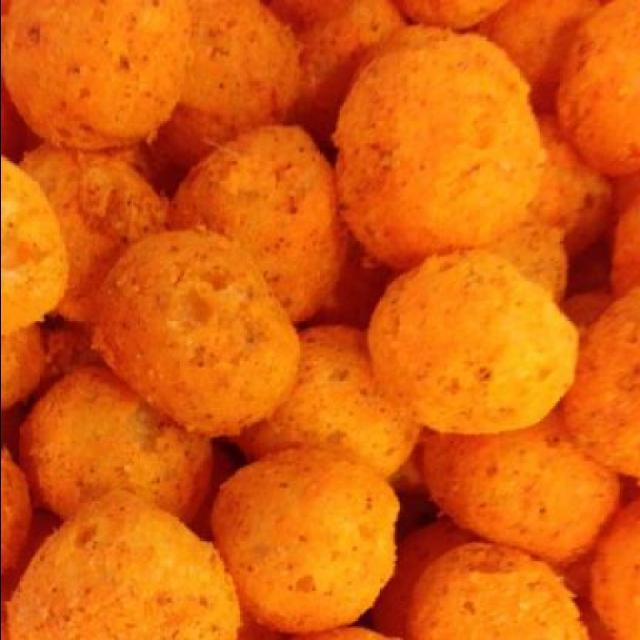Chips packaged: (19, 6, 636, 628)
